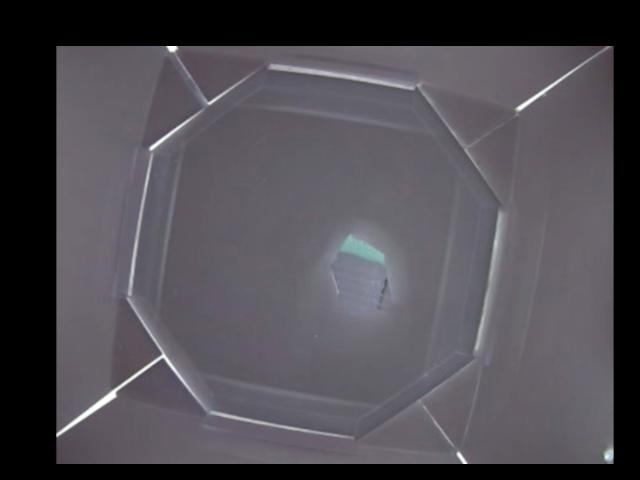China: (329, 231, 395, 309)
